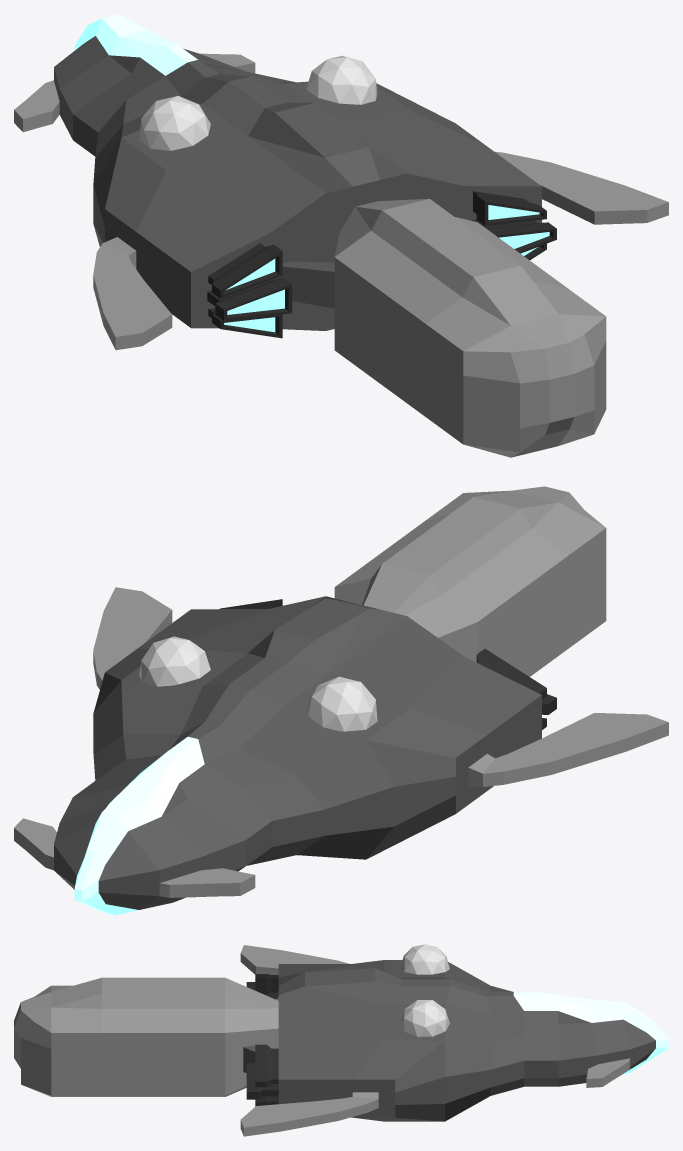
Rendered from Exploration_Frigate_LODGroup.fbx.
The picture shows the model from 3 angles, top to bottom: view 1: azimuth 30°, elevation 25°; view 2: azimuth 150°, elevation 25°; view 3: azimuth 270°, elevation 25°; orthographic projection. The views are drawn at different scales.
Visible parts, largest first — view 1: Exploration Frigate_LOD0; view 2: Exploration Frigate_LOD0; view 3: Exploration Frigate_LOD0.
Boxes of the visible parts, x1,y1,x2,y2 form: Exploration Frigate_LOD0: (14,14,668,457); Exploration Frigate_LOD0: (14,486,668,915); Exploration Frigate_LOD0: (14,944,668,1136).
Size of what is drawn, in the model's own units: 3.3 by 0.9705 by 4.99.
